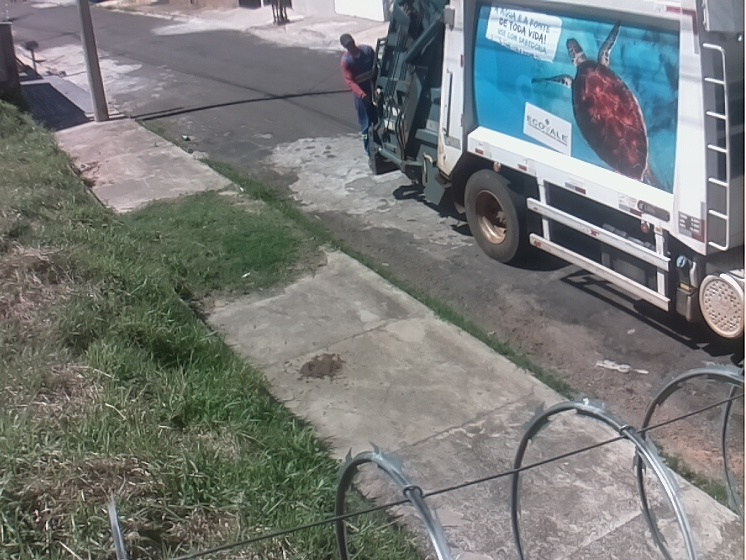person: (338, 33, 379, 156)
